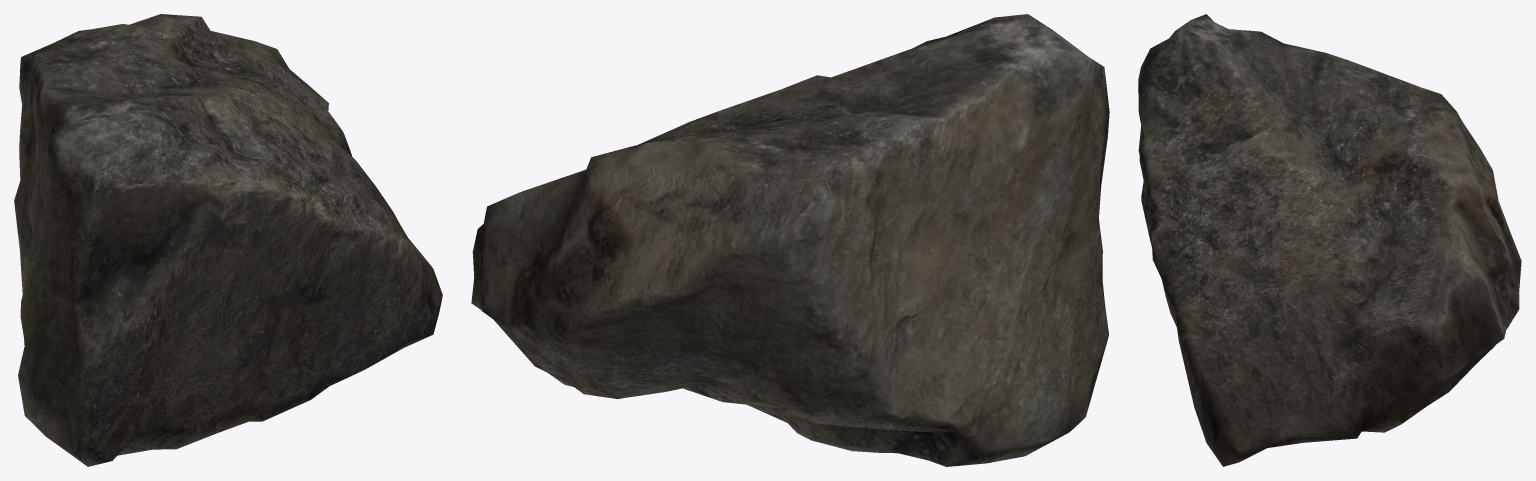
File: Rock3LowPolyCentered.glb
3 views of the same model, side by side, from view 1: azimuth 30°, elevation 25°; view 2: azimuth 150°, elevation 25°; view 3: azimuth 270°, elevation 25° (orthographic). The views are drawn at different scales.
Visible parts, largest first — view 1: Rock3LowPoly; view 2: Rock3LowPoly; view 3: Rock3LowPoly.
Part boxes in pixels (bbox=[...]): Rock3LowPoly: bbox=[14, 14, 442, 466]; Rock3LowPoly: bbox=[471, 14, 1109, 466]; Rock3LowPoly: bbox=[1138, 14, 1521, 466].
Size of the model in its own units: 2.9 by 2.45 by 2.55.
1 material, 1 textured.
